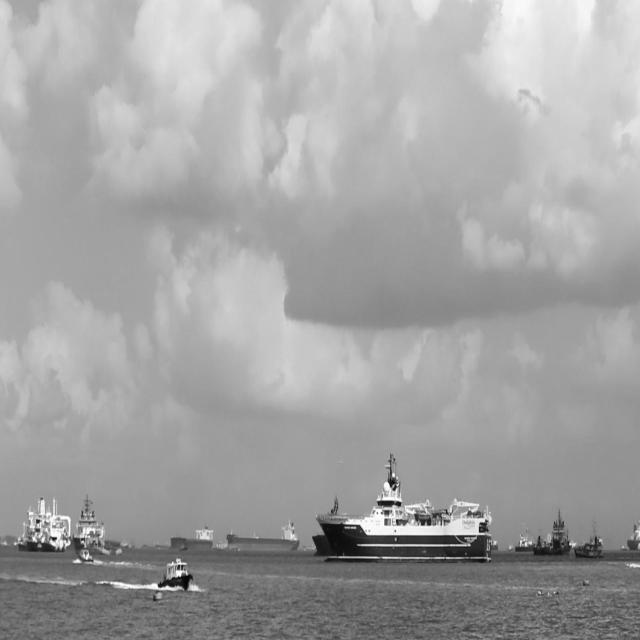buoy: (150, 584, 168, 604), (580, 573, 596, 589), (531, 584, 547, 598)
ship: (316, 448, 504, 573), (15, 490, 74, 556), (76, 492, 127, 560), (225, 518, 305, 560), (528, 507, 578, 564), (162, 521, 220, 556), (569, 519, 609, 566), (157, 550, 196, 589), (514, 520, 543, 560), (72, 544, 98, 572)
